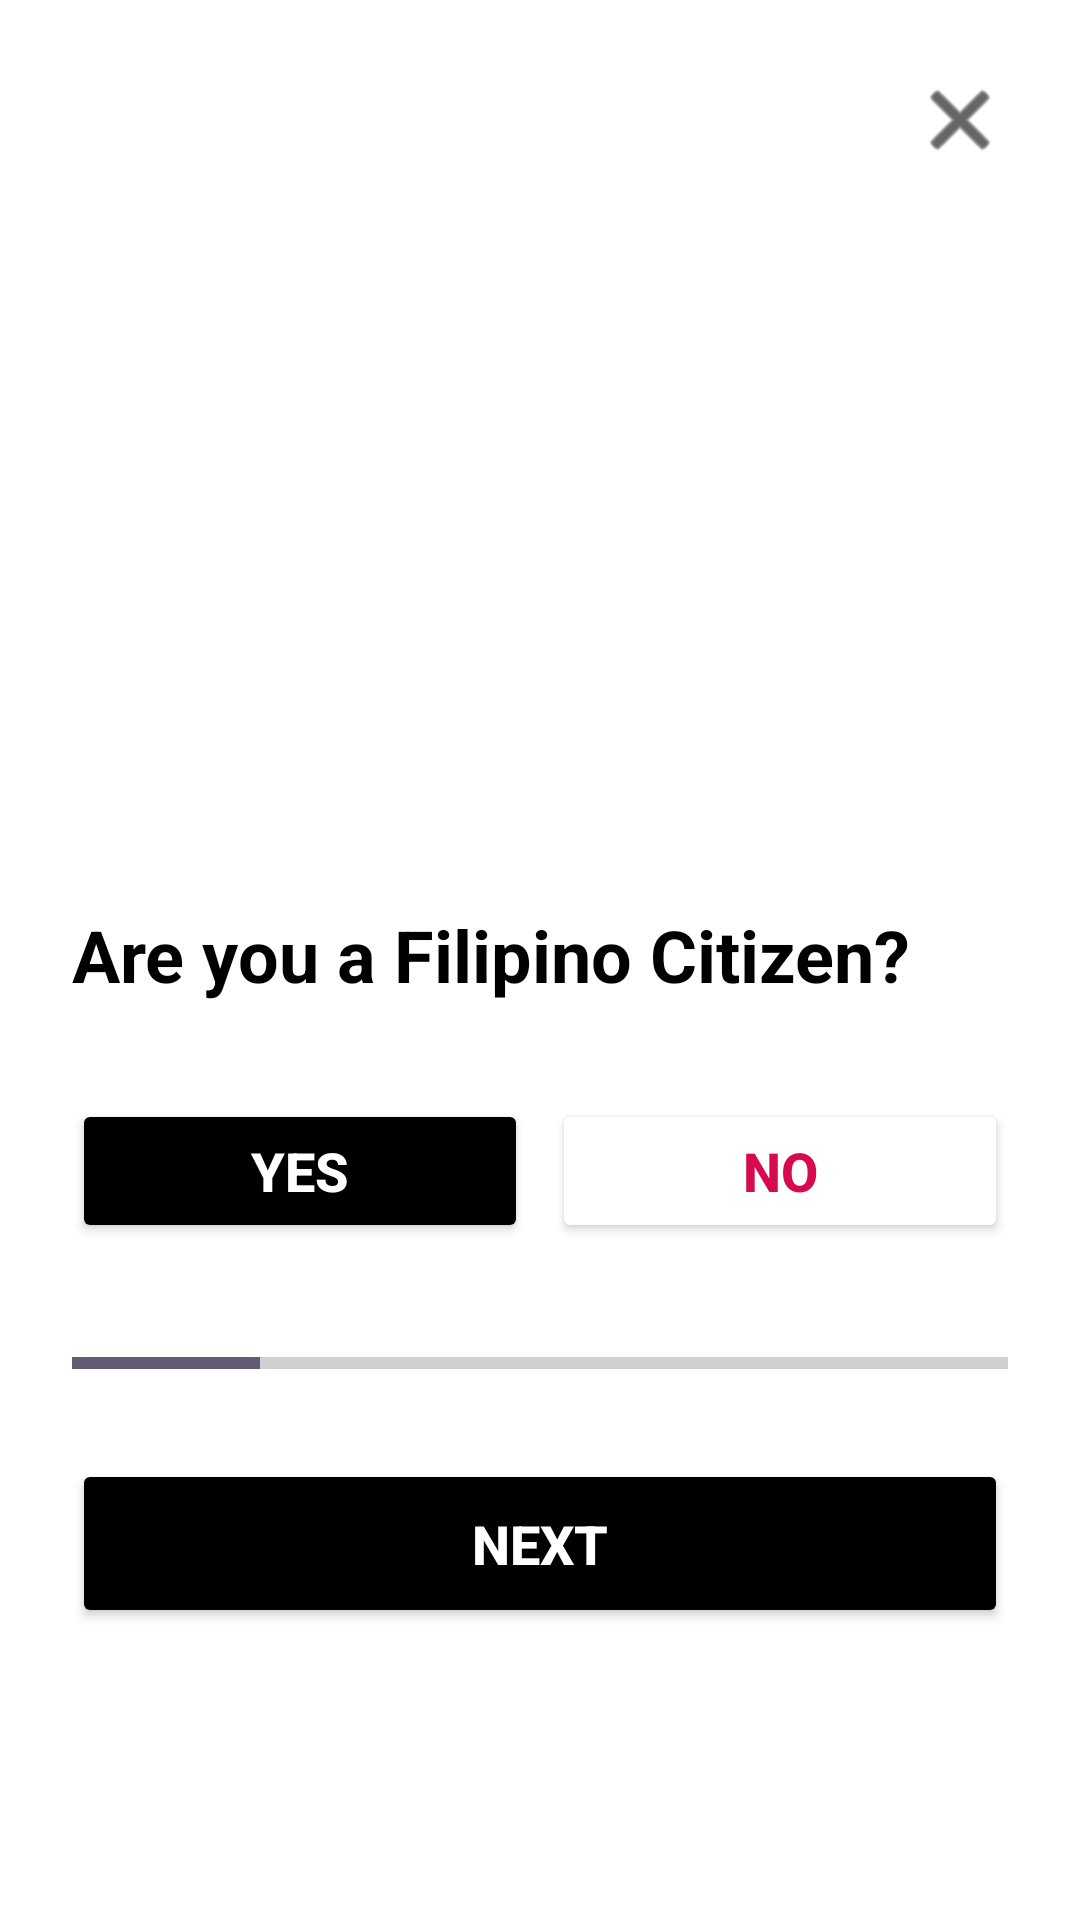

Named icons in this screenshot (1080px×1920px) and their centers, [x,y]:
Close: [960,120]
